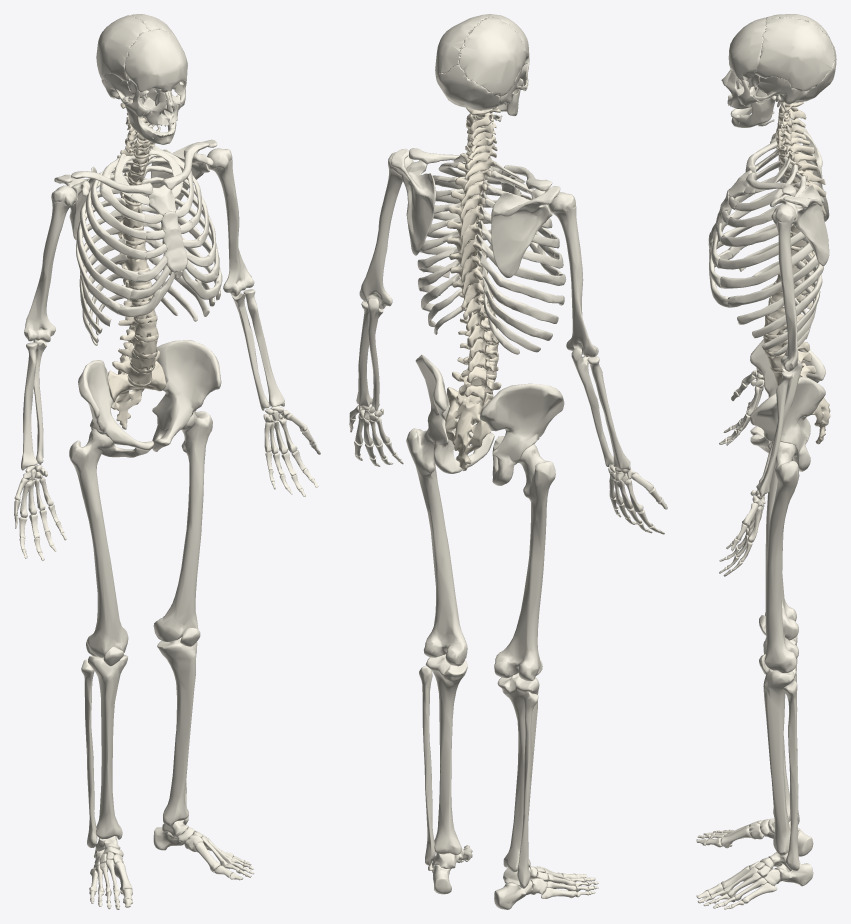
File: skeleton.glb
3 views of the same model, side by side, from view 1: azimuth 30°, elevation 25°; view 2: azimuth 150°, elevation 25°; view 3: azimuth 270°, elevation 25° (orthographic). The views are drawn at different scales.
Visible parts, largest first — view 1: ribs, thigh, shin, skull, pelvis, spine, upper_arm, hands, feet, forearm, shoulder_blades, collarbones (+1 smaller); view 2: spine, ribs, thigh, shin, skull, pelvis, shoulder_blades, upper_arm, forearm, feet, hands, collarbones; view 3: ribs, skull, thigh, shin, spine, feet, pelvis, shoulder_blades, upper_arm, hands, forearm, jaw (+1 smaller).
Boxes of the visible parts, x1=… form: ribs: x1=76, y1=145, x2=222, y2=345; thigh: x1=69, y1=411, x2=212, y2=657; shin: x1=81, y1=637, x2=197, y2=847; skull: x1=96, y1=14, x2=187, y2=131; pelvis: x1=78, y1=340, x2=221, y2=457; spine: x1=107, y1=99, x2=166, y2=429; upper_arm: x1=24, y1=148, x2=254, y2=342; hands: x1=14, y1=406, x2=320, y2=561; feet: x1=89, y1=820, x2=254, y2=909; forearm: x1=21, y1=289, x2=284, y2=470; shoulder_blades: x1=54, y1=139, x2=217, y2=240; collarbones: x1=71, y1=142, x2=209, y2=195; spine: x1=445, y1=107, x2=501, y2=470; ribs: x1=417, y1=156, x2=566, y2=354; thigh: x1=406, y1=428, x2=555, y2=681; shin: x1=419, y1=654, x2=539, y2=888; skull: x1=435, y1=14, x2=529, y2=121; pelvis: x1=415, y1=354, x2=564, y2=485; shoulder_blades: x1=391, y1=148, x2=560, y2=277; upper_arm: x1=359, y1=152, x2=598, y2=357; forearm: x1=356, y1=298, x2=630, y2=470; feet: x1=428, y1=845, x2=598, y2=909; hands: x1=349, y1=404, x2=667, y2=534; collarbones: x1=409, y1=148, x2=552, y2=191; ribs: x1=708, y1=149, x2=824, y2=356; skull: x1=721, y1=14, x2=836, y2=126; thigh: x1=764, y1=442, x2=799, y2=672; shin: x1=763, y1=636, x2=799, y2=870; spine: x1=763, y1=102, x2=830, y2=444; feet: x1=696, y1=818, x2=813, y2=909; pelvis: x1=750, y1=330, x2=825, y2=471; shoulder_blades: x1=770, y1=124, x2=829, y2=266; upper_arm: x1=771, y1=131, x2=798, y2=371; hands: x1=719, y1=369, x2=765, y2=576; forearm: x1=756, y1=359, x2=801, y2=497; jaw: x1=730, y1=94, x2=776, y2=127.
Size of the model in its own units: 0.6478 by 1.71 by 0.2539.
